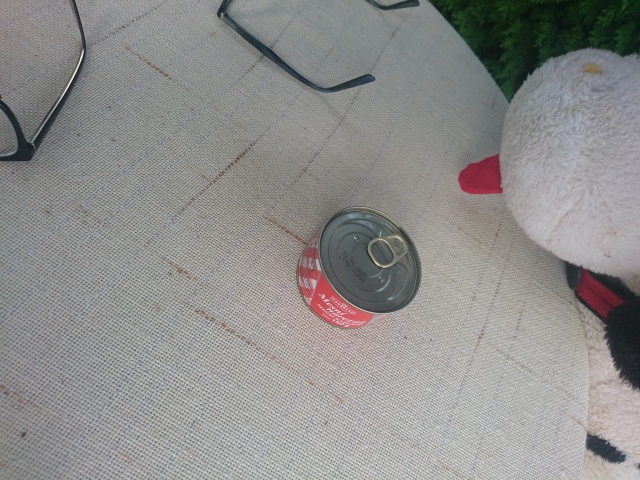Podravka Luncheon Meat 150g: (292, 202, 424, 332)
